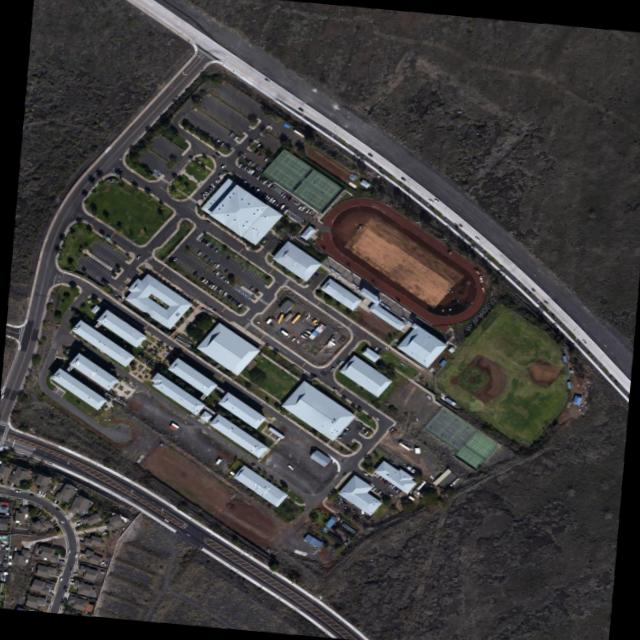small-vehicle: (261, 179, 267, 185), (432, 198, 439, 203), (399, 176, 406, 181), (263, 78, 270, 83), (297, 204, 302, 210), (299, 205, 305, 210), (580, 339, 586, 344), (366, 152, 372, 157), (297, 107, 303, 112), (372, 346, 377, 352), (192, 271, 198, 276), (287, 465, 293, 470), (195, 251, 201, 256), (240, 180, 246, 185), (220, 292, 226, 297), (213, 264, 219, 269), (299, 334, 305, 339), (183, 532, 190, 536), (426, 199, 433, 203), (262, 157, 267, 162), (249, 162, 254, 167), (248, 169, 253, 174), (266, 182, 271, 187), (281, 193, 286, 198), (303, 209, 308, 214), (279, 204, 284, 209), (227, 132, 232, 137), (529, 287, 534, 292), (268, 197, 273, 202), (265, 194, 270, 199), (246, 184, 251, 189), (236, 303, 241, 308), (216, 288, 221, 293), (202, 279, 207, 284), (197, 237, 202, 242), (213, 248, 218, 253), (304, 314, 309, 319), (328, 367, 333, 372), (383, 346, 388, 351), (219, 164, 225, 168), (0, 393, 4, 399), (541, 300, 547, 304), (68, 577, 74, 581), (343, 427, 349, 431), (331, 387, 337, 391), (200, 278, 206, 282), (204, 242, 210, 246), (301, 332, 307, 336), (270, 199, 275, 203), (254, 164, 259, 168), (237, 163, 242, 167), (246, 169, 251, 173), (279, 192, 284, 196), (307, 210, 312, 214), (283, 208, 288, 212), (232, 136, 236, 141), (474, 237, 479, 241), (213, 139, 218, 143), (218, 142, 223, 146), (221, 144, 226, 148), (274, 202, 279, 206), (162, 518, 167, 522), (366, 475, 371, 479), (374, 416, 379, 420), (202, 256, 207, 260), (253, 289, 257, 294), (223, 269, 227, 274), (272, 313, 276, 318), (28, 493, 33, 497), (54, 507, 59, 511), (212, 285, 216, 290), (171, 256, 175, 261), (248, 287, 253, 291), (305, 329, 309, 334), (394, 488, 399, 492), (390, 485, 395, 489), (255, 167, 261, 170), (456, 223, 462, 226), (289, 337, 295, 340), (75, 522, 81, 525), (209, 183, 213, 187), (244, 167, 248, 171), (210, 154, 214, 158), (207, 260, 211, 264), (225, 256, 229, 260), (258, 152, 262, 156), (373, 472, 377, 476), (209, 284, 213, 288), (218, 275, 222, 279), (371, 487, 375, 491), (202, 191, 207, 194), (204, 188, 209, 191), (206, 186, 211, 189), (255, 143, 260, 146), (258, 169, 263, 172), (242, 166, 247, 169), (256, 175, 259, 180), (362, 472, 367, 475), (212, 262, 215, 267), (73, 553, 76, 558), (13, 546, 16, 551), (68, 581, 73, 584), (213, 272, 218, 275), (295, 339, 298, 343), (270, 315, 273, 319), (14, 490, 20, 492), (375, 475, 379, 478), (265, 194, 269, 197), (379, 477, 383, 480), (200, 193, 205, 195), (247, 161, 250, 164), (214, 179, 216, 183), (67, 549, 69, 553), (59, 576, 61, 580), (72, 573, 76, 575)
